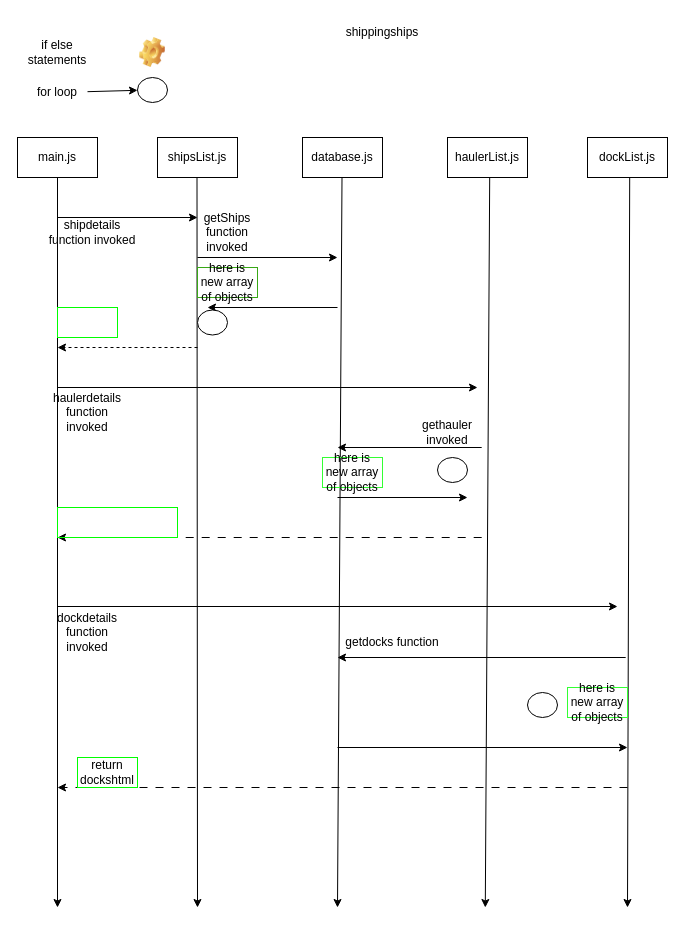
Image size: 685x933. Some labels were removed from this diagram. The box of each missing label's shape, as (x1, y1, x2, y2) in pixels:
return haulerhtml: (56, 506, 178, 538)
return shipshtml: (56, 306, 118, 338)
